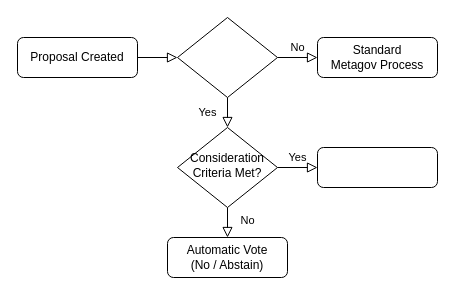
The diagram is 455 pixels wide and 295 high, and some of its shapes have lost their labels. The centre of each missing label's shape, as x and y in pixels:
Abridged Metagov Process (Tier 2 or 3): point (377, 167)
Voting Period <= 3 Days?: point (227, 57)
